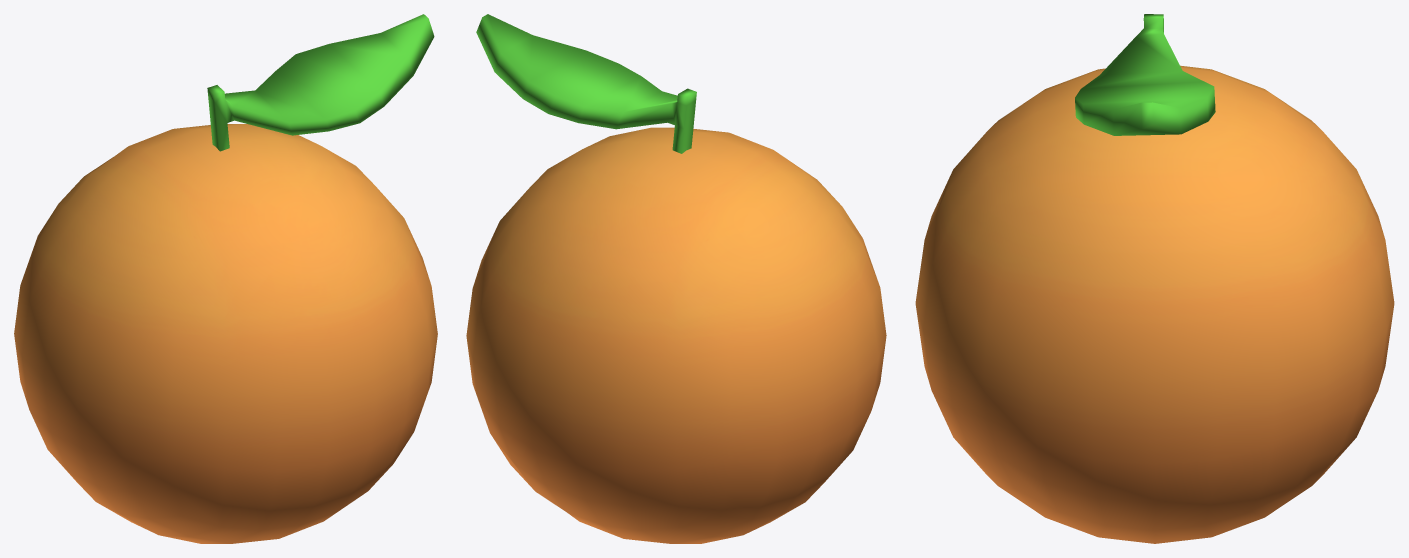
File: orange.fbx
3 views of the same model, side by side, from view 1: azimuth 30°, elevation 25°; view 2: azimuth 150°, elevation 25°; view 3: azimuth 270°, elevation 25° (orthographic). The views are drawn at different scales.
Visible parts, largest first — view 1: Cube, Plane; view 2: Cube, Plane; view 3: Cube, Plane.
Part boxes in pixels (bbox=[...]): Cube: bbox=[14, 124, 437, 543]; Plane: bbox=[207, 14, 434, 151]; Cube: bbox=[466, 127, 886, 543]; Plane: bbox=[476, 14, 696, 153]; Cube: bbox=[915, 65, 1394, 543]; Plane: bbox=[1075, 14, 1215, 135].
Bounding box in the file's own units: 86.51 × 99.47 × 81.89.
